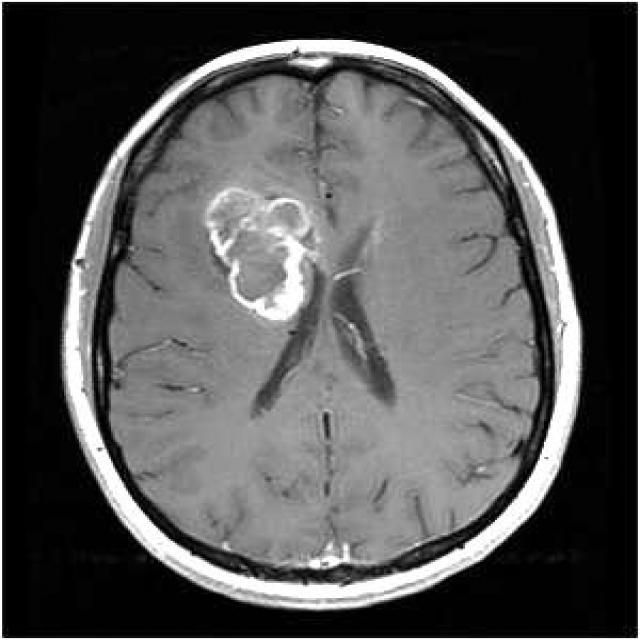tumor: (203, 183, 329, 331)
